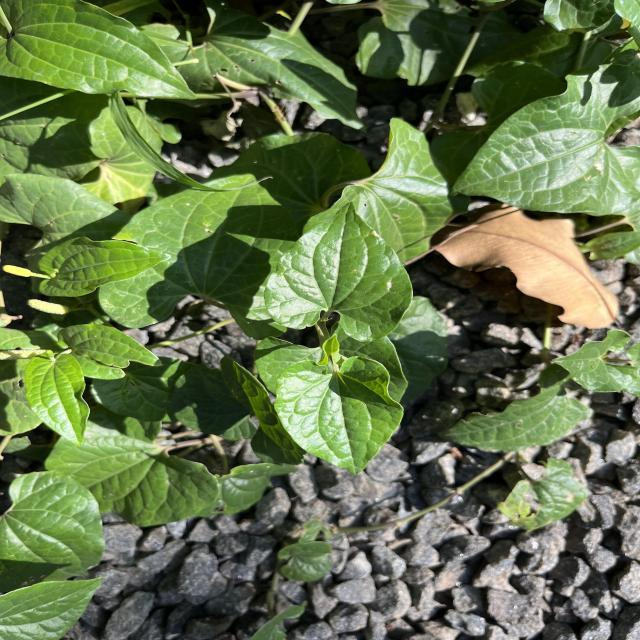Piper longum: (262, 198, 415, 344), (272, 353, 406, 477)
